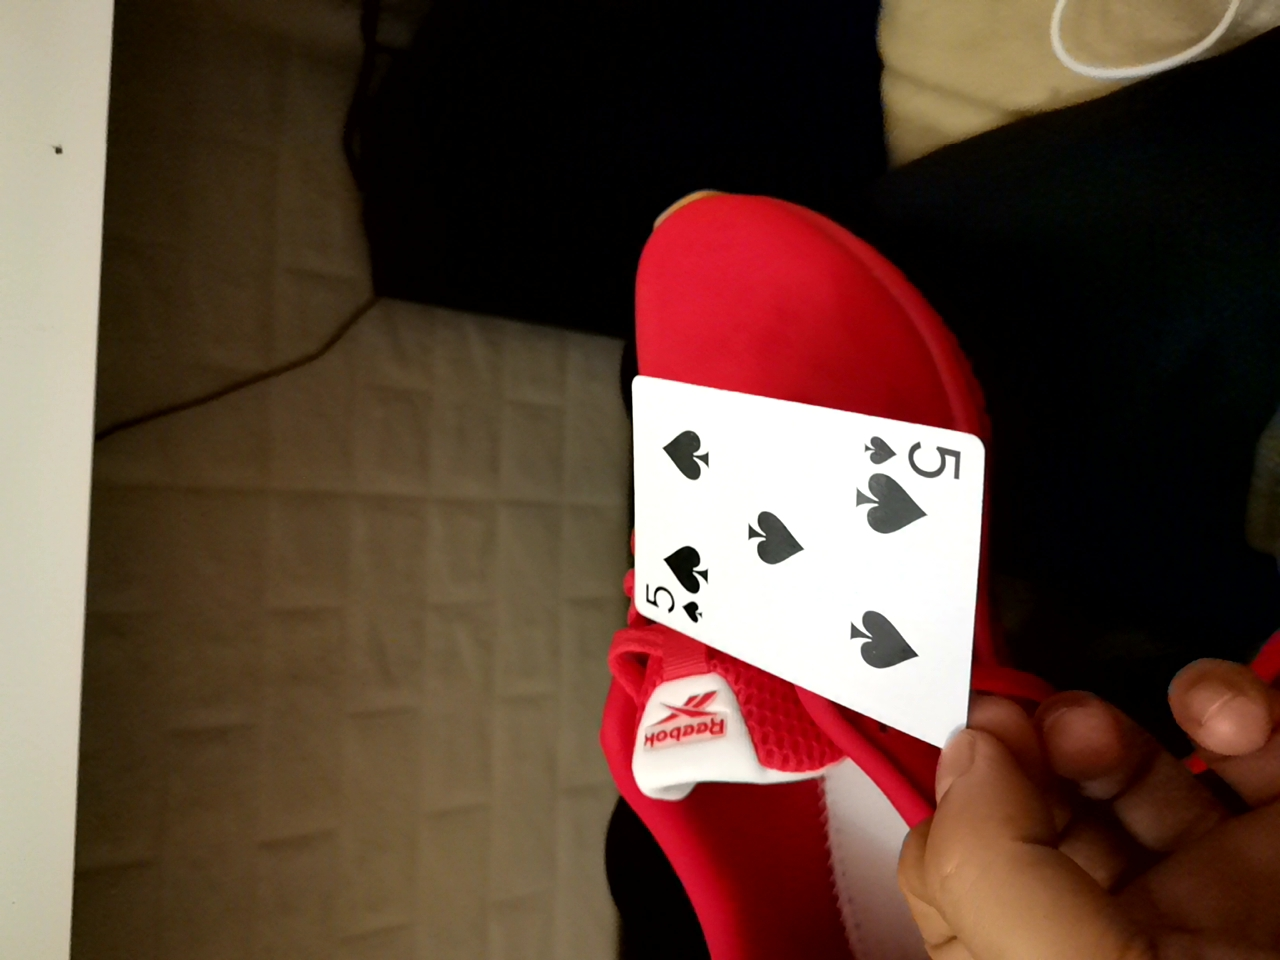ht 5: (639, 395, 986, 736)
